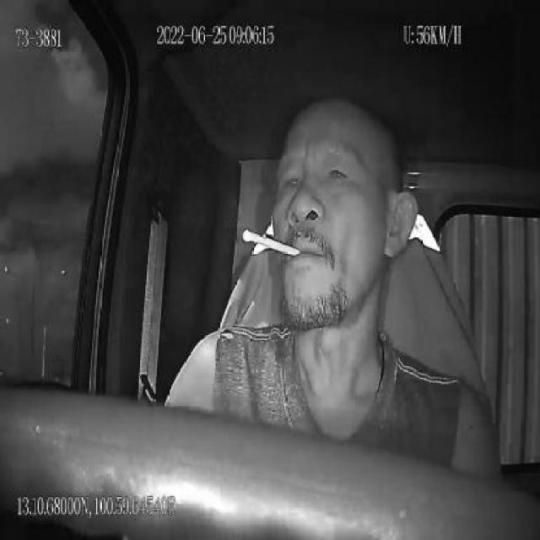smoking: (242, 226, 300, 257)
